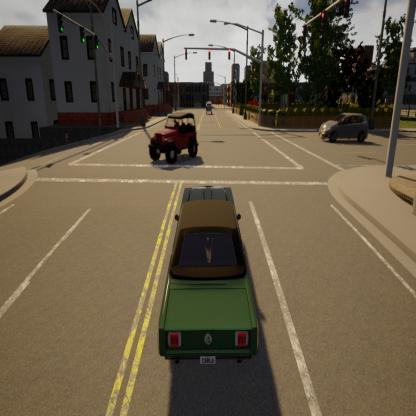Cars: (151, 179, 266, 388), (305, 86, 386, 183), (144, 106, 216, 178), (200, 94, 214, 123)
